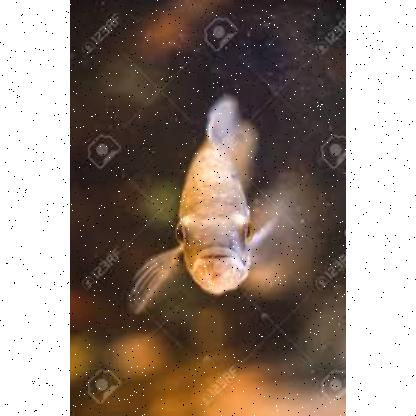gurame: (129, 96, 269, 318)
